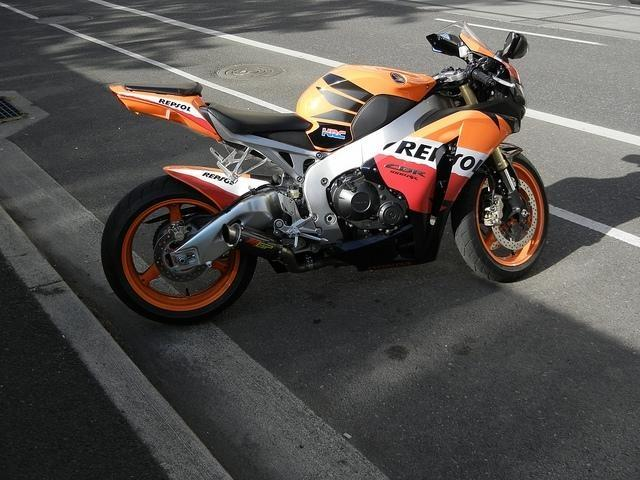motorcycle: (98, 30, 552, 325)
